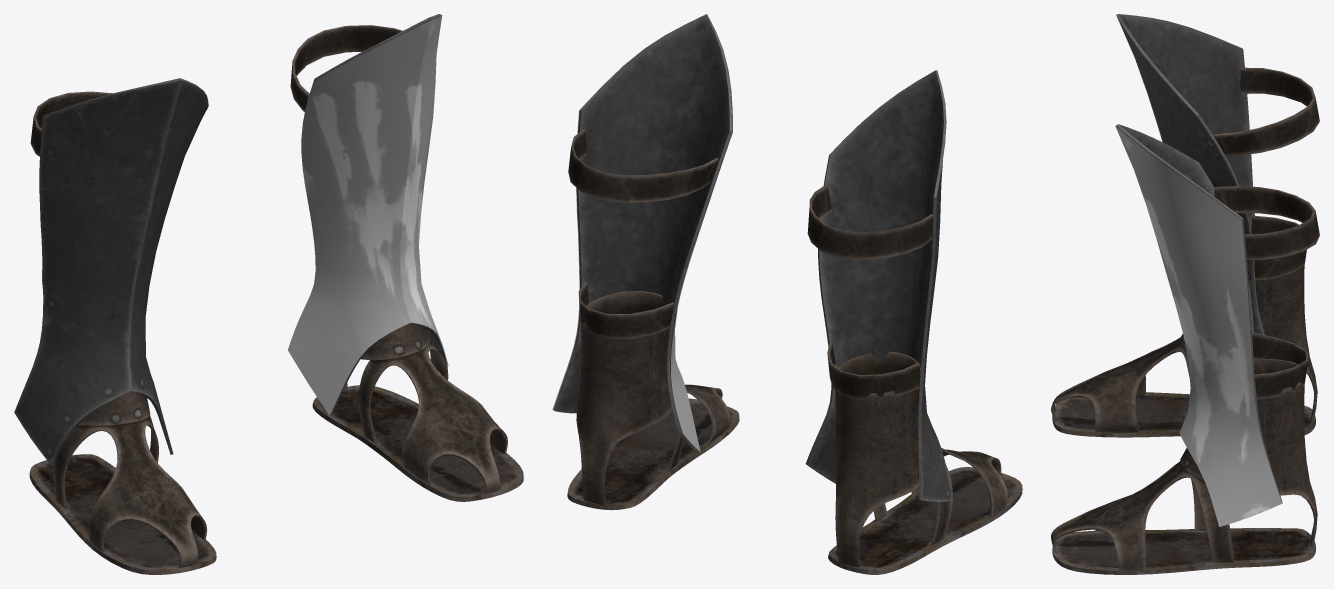
File: sk_uruk_hai_greaves_medium_a3.fbx
3 renders of one model, left to right at view 1: azimuth 30°, elevation 25°; view 2: azimuth 150°, elevation 25°; view 3: azimuth 270°, elevation 25°, orthographic. The views are drawn at different scales.
Visible parts, largest first — view 1: sk_uruk_hai_greaves_medium_a3.0, sk_uruk_hai_greaves_medium_a3.2, sk_uruk_hai_greaves_medium_a3.1; view 2: sk_uruk_hai_greaves_medium_a3.0, sk_uruk_hai_greaves_medium_a3.1, sk_uruk_hai_greaves_medium_a3.2; view 3: sk_uruk_hai_greaves_medium_a3.0, sk_uruk_hai_greaves_medium_a3.2, sk_uruk_hai_greaves_medium_a3.1.
Boxes of the visible parts, left/top/right/bottom form: sk_uruk_hai_greaves_medium_a3.0: left=14, top=14, right=523, bottom=574; sk_uruk_hai_greaves_medium_a3.2: left=288, top=15, right=448, bottom=415; sk_uruk_hai_greaves_medium_a3.1: left=30, top=25, right=402, bottom=288; sk_uruk_hai_greaves_medium_a3.0: left=553, top=14, right=1022, bottom=574; sk_uruk_hai_greaves_medium_a3.1: left=568, top=129, right=933, bottom=399; sk_uruk_hai_greaves_medium_a3.2: left=552, top=14, right=732, bottom=451; sk_uruk_hai_greaves_medium_a3.0: left=1051, top=14, right=1317, bottom=574; sk_uruk_hai_greaves_medium_a3.2: left=1115, top=125, right=1281, bottom=526; sk_uruk_hai_greaves_medium_a3.1: left=1214, top=67, right=1319, bottom=399.
Size of the model in its own units: 0.4635 by 0.2936 by 0.5046.
3 materials, 3 textured.
